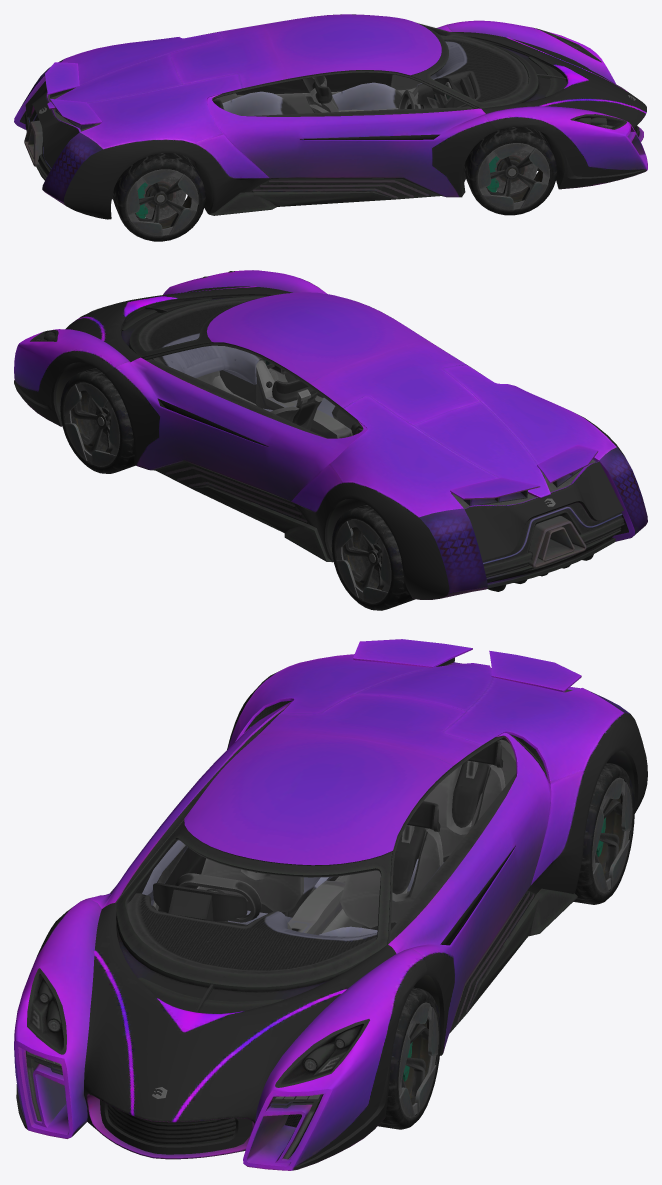
3 views of the same model, one above another, from view 1: azimuth 30°, elevation 25°; view 2: azimuth 150°, elevation 25°; view 3: azimuth 270°, elevation 25° (orthographic). The views are drawn at different scales.
Visible parts, largest first — view 1: LYKAN_HYPERSPORT; view 2: LYKAN_HYPERSPORT; view 3: LYKAN_HYPERSPORT.
Boxes of the visible parts, box(x1,y1,x2,y2) form: LYKAN_HYPERSPORT: box(14, 14, 647, 241); LYKAN_HYPERSPORT: box(14, 270, 647, 610); LYKAN_HYPERSPORT: box(14, 639, 647, 1170).
Size of the model in its own units: 5.24 by 1.3 by 3.3.
Materials: 3 (2 with a texture image).
